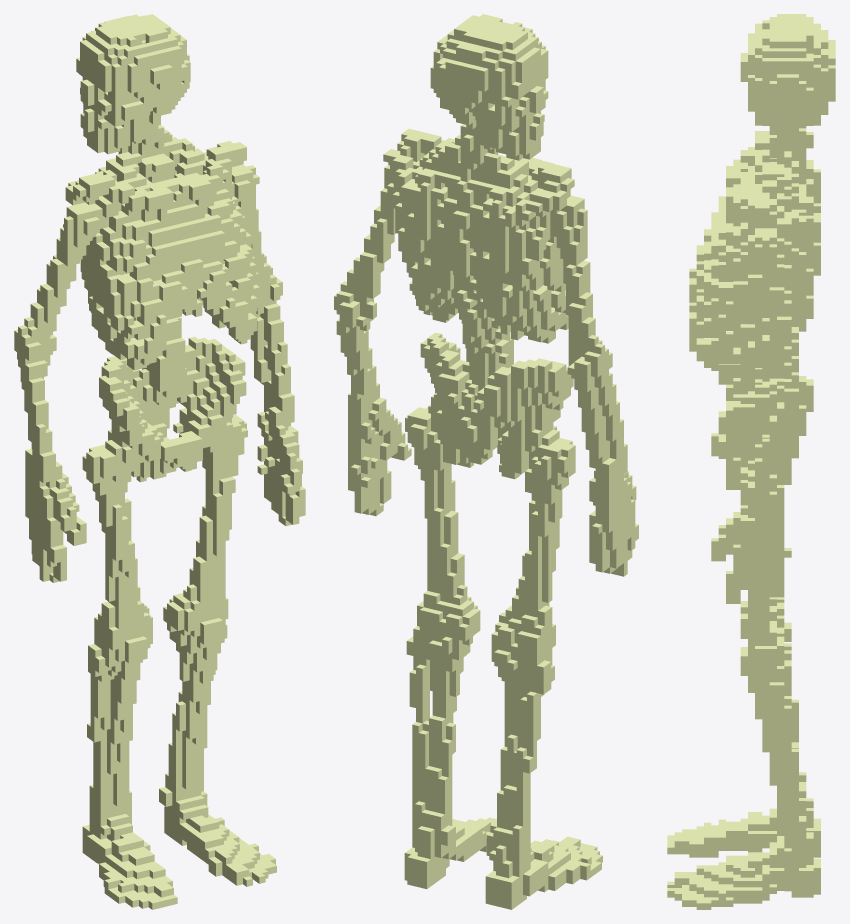
File: skeleton_standing_right.obj
3 renders of one model, left to right at view 1: azimuth 30°, elevation 25°; view 2: azimuth 150°, elevation 25°; view 3: azimuth 270°, elevation 25°, orthographic. The views are drawn at different scales.
Size of the model in its own units: 41 by 126 by 23.
1 material, 1 textured.
